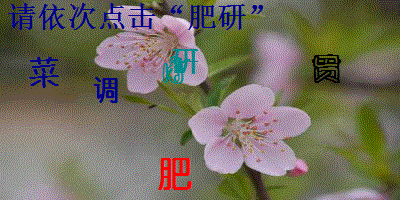result: (187, 3, 248, 32)
text: (157, 156, 193, 194), (27, 56, 62, 92), (310, 51, 344, 84), (90, 73, 123, 106), (168, 47, 199, 75), (160, 56, 187, 85)
